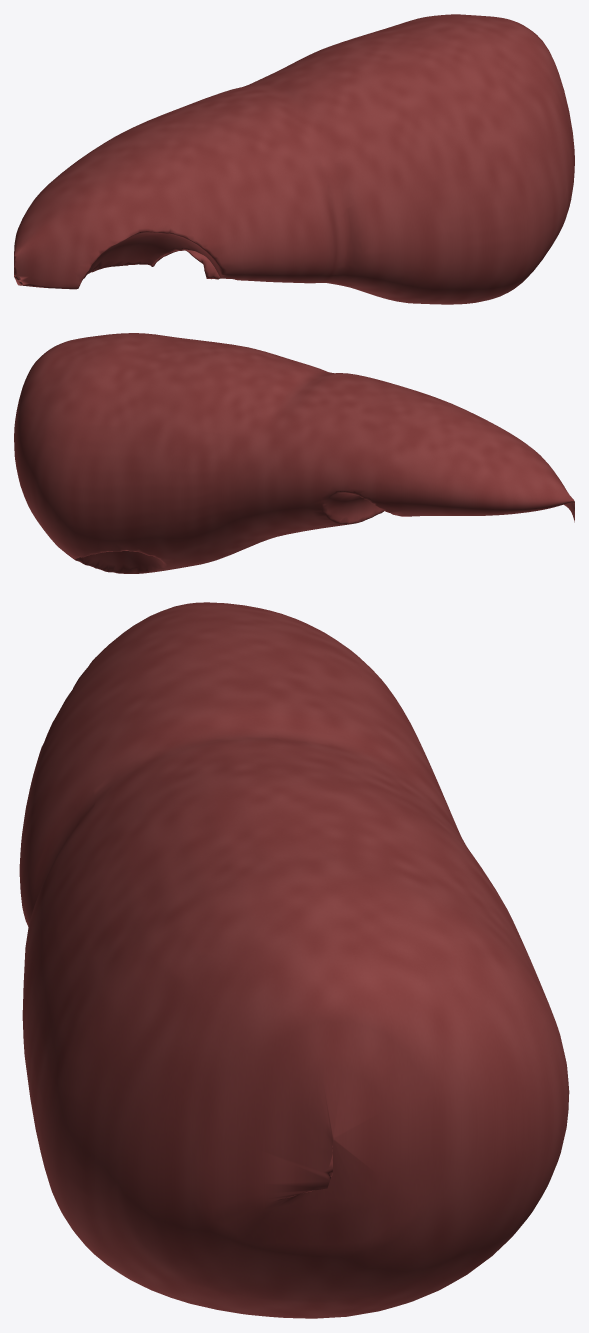
The model's file is liver-innerscene.glb.
3 views of the same model, one above another, from view 1: azimuth 30°, elevation 25°; view 2: azimuth 150°, elevation 25°; view 3: azimuth 270°, elevation 25° (orthographic). The views are drawn at different scales.
Parts seen in each view (by area): view 1: Liver asymmetric lobes and falciform groove; view 2: Liver asymmetric lobes and falciform groove; view 3: Liver asymmetric lobes and falciform groove.
Boxes of the visible parts, x1,y1,x2,y2 form: Liver asymmetric lobes and falciform groove: (14, 14, 574, 304); Liver asymmetric lobes and falciform groove: (14, 333, 574, 573); Liver asymmetric lobes and falciform groove: (19, 602, 569, 1318).
Size of the model in its own units: 0.2581 by 0.1069 by 0.1192.
1 material, 1 textured.
